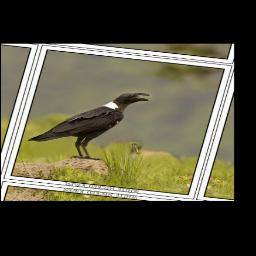Crow: (22, 81, 154, 166)
